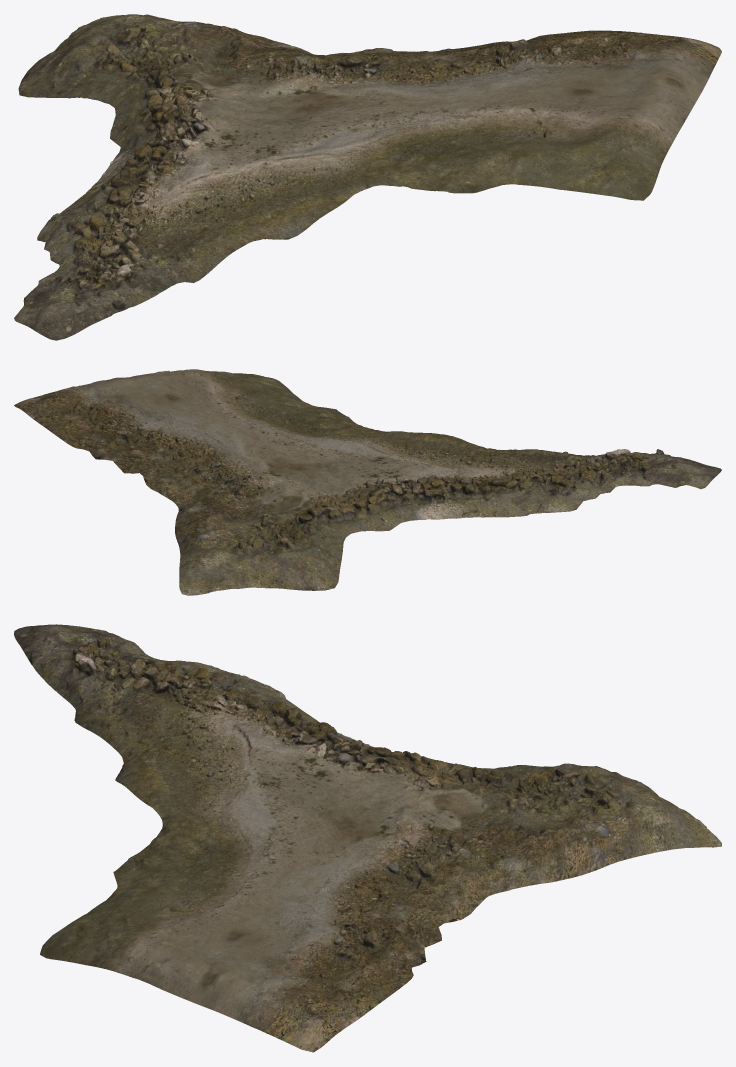
File: rocas.glb
The picture shows the model from 3 angles, top to bottom: view 1: azimuth 30°, elevation 25°; view 2: azimuth 150°, elevation 25°; view 3: azimuth 270°, elevation 25°; orthographic projection. The views are drawn at different scales.
Visible parts, largest first — view 1: coast_rocks_01; view 2: coast_rocks_01; view 3: coast_rocks_01.
Part boxes in pixels (x1,y1,x2,y2): coast_rocks_01: (14,14,721,340); coast_rocks_01: (14,369,721,595); coast_rocks_01: (14,624,721,1052).
Bounding box in the file's own units: 59.51 × 3.29 × 42.52.
1 material, 1 textured.
